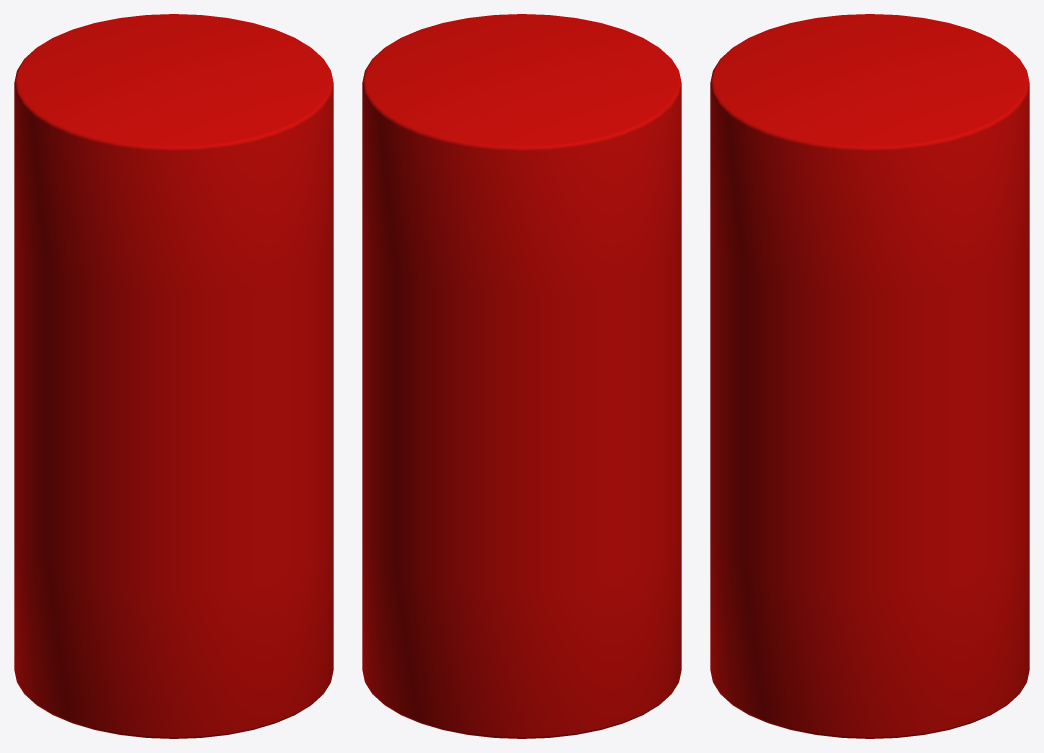
The model's file is Cyliner.fbx.
The picture shows the model from 3 angles, left to right: view 1: azimuth 30°, elevation 25°; view 2: azimuth 150°, elevation 25°; view 3: azimuth 270°, elevation 25°; orthographic projection.
Parts seen in each view (by area): view 1: Cylinder; view 2: Cylinder; view 3: Cylinder.
Boxes of the visible parts, left/top/right/bottom form: Cylinder: left=14, top=14, right=333, bottom=738; Cylinder: left=362, top=14, right=681, bottom=738; Cylinder: left=710, top=14, right=1029, bottom=738.
Size of the model in its own units: 44 by 90 by 44.
